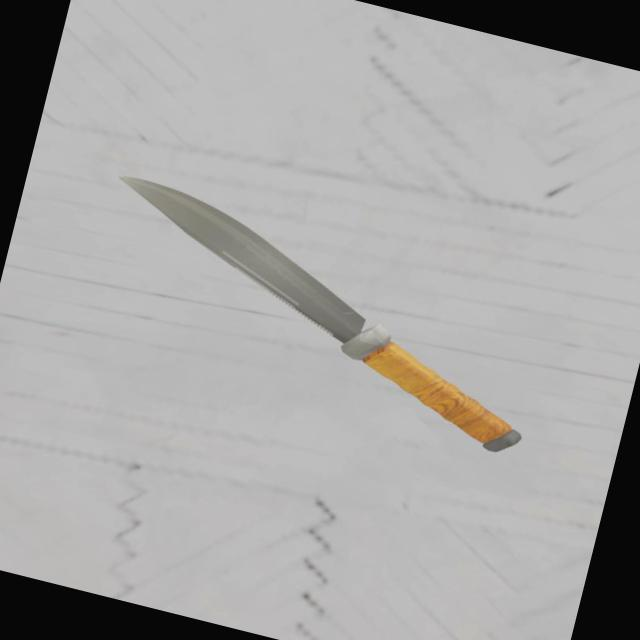knife: (338, 330, 530, 454)
